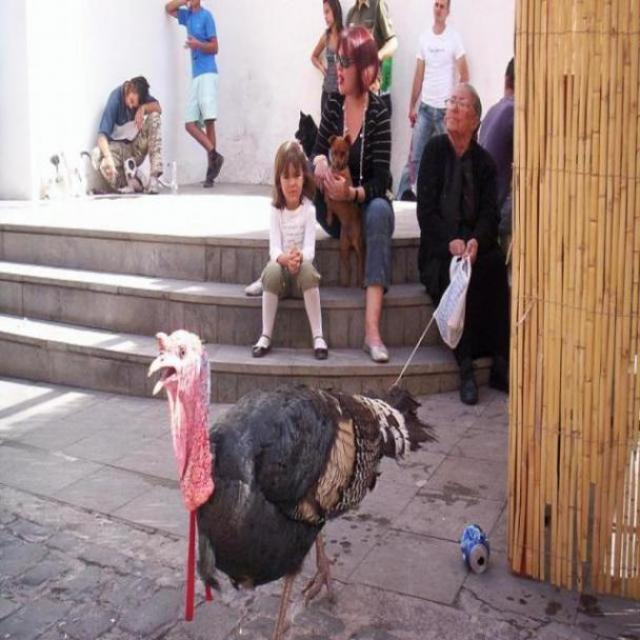Chicken: (163, 370, 418, 634)
